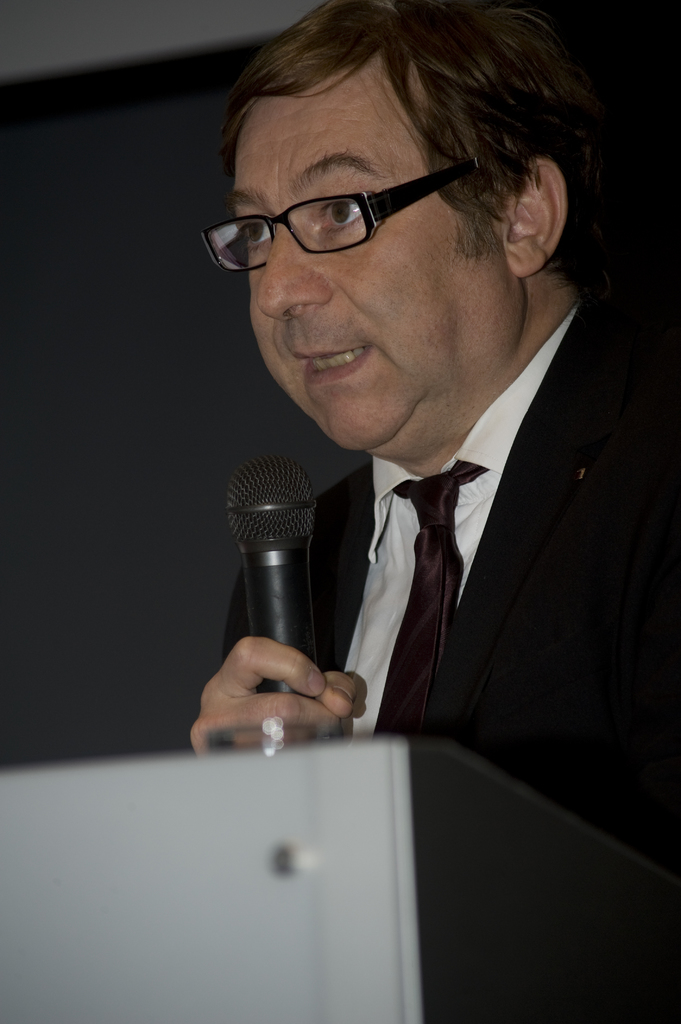Human_hand: (182, 634, 369, 750)
